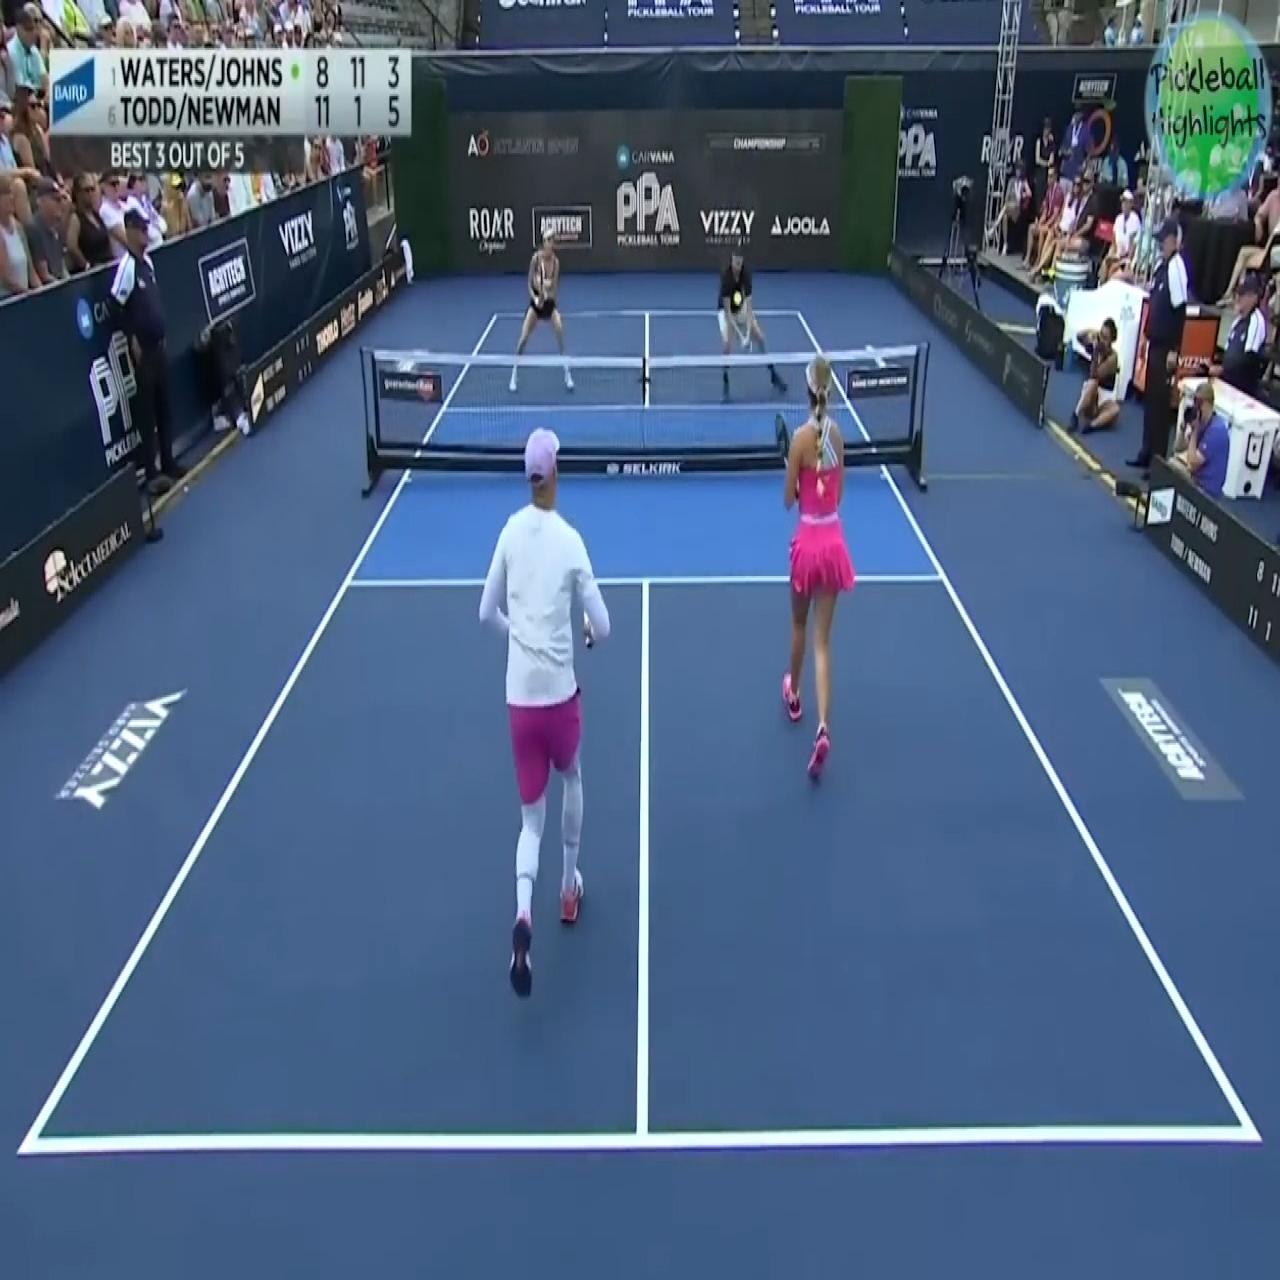Pickleball: (731, 287, 743, 309)
